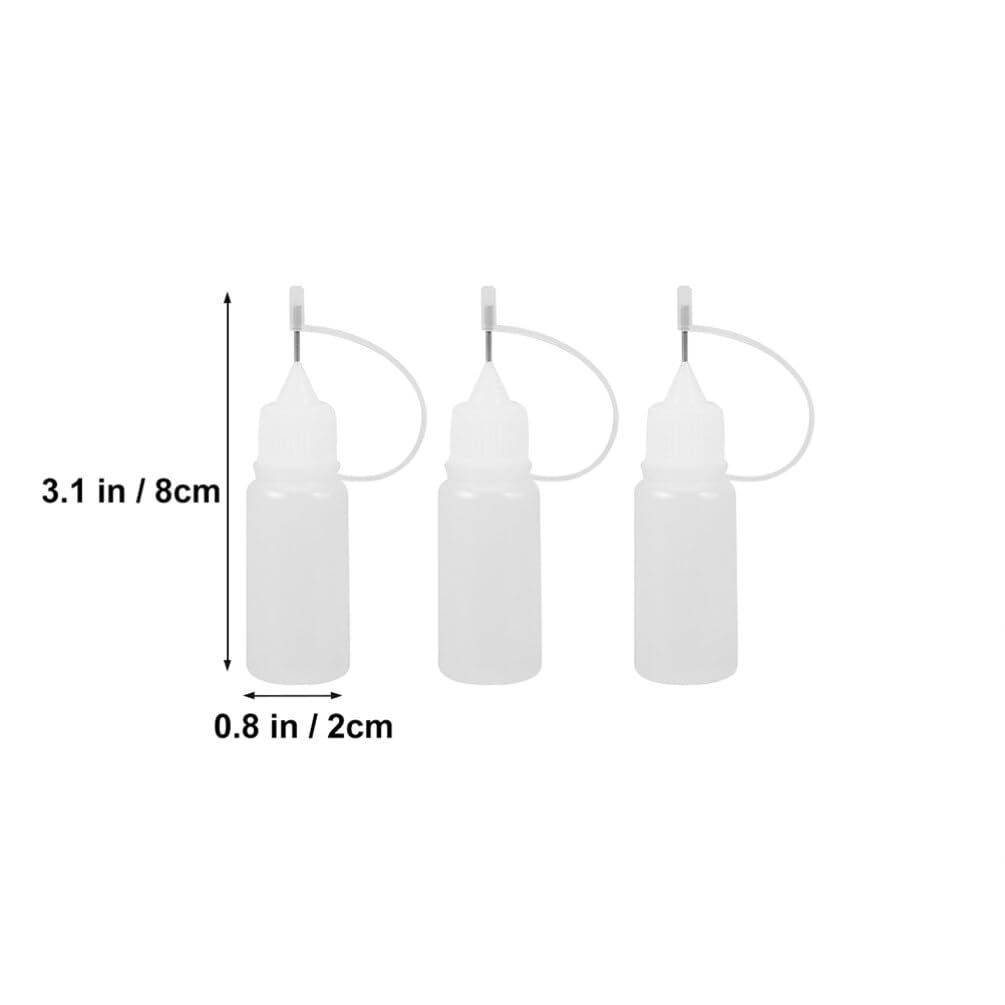/: (309, 713, 318, 738)
0.8: (215, 713, 258, 738)
2cm: (328, 713, 392, 738)
3.1: (43, 478, 82, 503)
8cm: (156, 478, 219, 503)
in: (272, 714, 297, 738)
